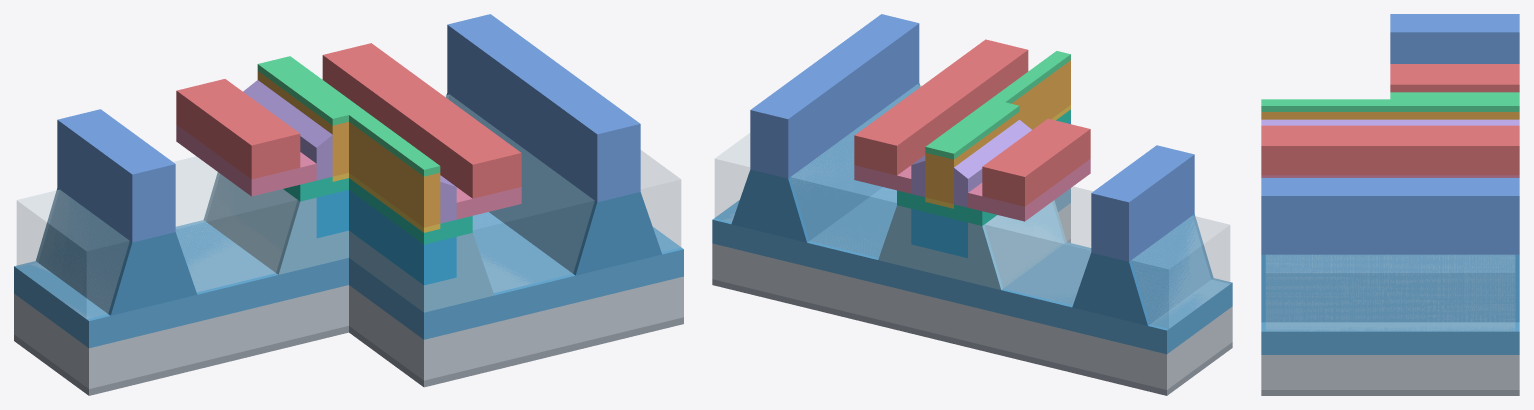
Rendered from sige_hbt_sentaurus.glb.
The picture shows the model from 3 angles, left to right: view 1: azimuth 30°, elevation 25°; view 2: azimuth 150°, elevation 25°; view 3: azimuth 270°, elevation 25°; orthographic projection. The views are drawn at different scales.
Visible parts, largest first — view 1: R_CollectorCont, Impl_SubCol_BuriedNPlus, R_Substrate_P, Impl_ColCont_SinkerNPlus, R_Insulation_STI_Inner, R_BaseContR, R_CollectorMesa_EpiN, R_Insulation_STI_Outer, R_Emitter_Poly, Impl_Col_SIC, Contact_Substrate, Contact_Emitter (+4 smaller); view 2: R_CollectorCont, Impl_SubCol_BuriedNPlus, R_Substrate_P, Impl_ColCont_SinkerNPlus, R_Insulation_STI_Inner, R_BaseContR, R_Insulation_STI_Outer, R_CollectorMesa_EpiN, R_Emitter_Poly, Contact_Emitter, Contact_Substrate, R_Baseright_PolyBase (+3 smaller); view 3: R_CollectorCont, R_Insulation_STI_Outer, Impl_ColCont_SinkerNPlus, R_BaseContR, R_Substrate_P, Impl_SubCol_BuriedNPlus, Contact_Emitter, R_Emitter_Poly, Nitride_Spacer_Sidewall, Contact_Substrate, R_Baseright_PolyBase.
Part boxes in pixels (<box>): R_CollectorCont: <box>57,14,640,242</box>; Impl_SubCol_BuriedNPlus: <box>14,212,683,348</box>; R_Substrate_P: <box>14,276,683,388</box>; Impl_ColCont_SinkerNPlus: <box>36,93,661,315</box>; R_Insulation_STI_Inner: <box>173,94,593,292</box>; R_BaseContR: <box>176,43,521,198</box>; R_CollectorMesa_EpiN: <box>203,172,494,312</box>; R_Insulation_STI_Outer: <box>17,150,680,318</box>; R_Emitter_Poly: <box>257,71,440,227</box>; Impl_Col_SIC: <box>316,190,456,285</box>; Contact_Substrate: <box>14,317,683,395</box>; Contact_Emitter: <box>257,56,440,176</box>; R_CollectorCont: <box>750,14,1194,261</box>; Impl_SubCol_BuriedNPlus: <box>712,187,1232,354</box>; R_Substrate_P: <box>712,203,1232,389</box>; Impl_ColCont_SinkerNPlus: <box>731,83,1213,325</box>; R_Insulation_STI_Inner: <box>790,84,1092,304</box>; R_BaseContR: <box>854,39,1090,206</box>; R_Insulation_STI_Outer: <box>715,133,1229,328</box>; R_CollectorMesa_EpiN: <box>878,200,1066,289</box>; R_Emitter_Poly: <box>925,60,1070,204</box>; Contact_Emitter: <box>925,51,1070,159</box>; Contact_Substrate: <box>712,239,1232,395</box>; R_Baseright_PolyBase: <box>854,159,1090,221</box>; R_CollectorCont: <box>1261,14,1519,254</box>; R_Insulation_STI_Outer: <box>1266,255,1514,331</box>; Impl_ColCont_SinkerNPlus: <box>1261,254,1519,322</box>; R_BaseContR: <box>1261,64,1519,175</box>; R_Substrate_P: <box>1261,355,1519,389</box>; Impl_SubCol_BuriedNPlus: <box>1261,322,1519,354</box>; Contact_Emitter: <box>1261,92,1519,111</box>; R_Emitter_Poly: <box>1261,112,1519,119</box>; Nitride_Spacer_Sidewall: <box>1261,119,1519,125</box>; Contact_Substrate: <box>1261,390,1519,395</box>; R_Baseright_PolyBase: <box>1261,175,1519,177</box>.
Size of the model in its own units: 24 by 9.6 by 12.
